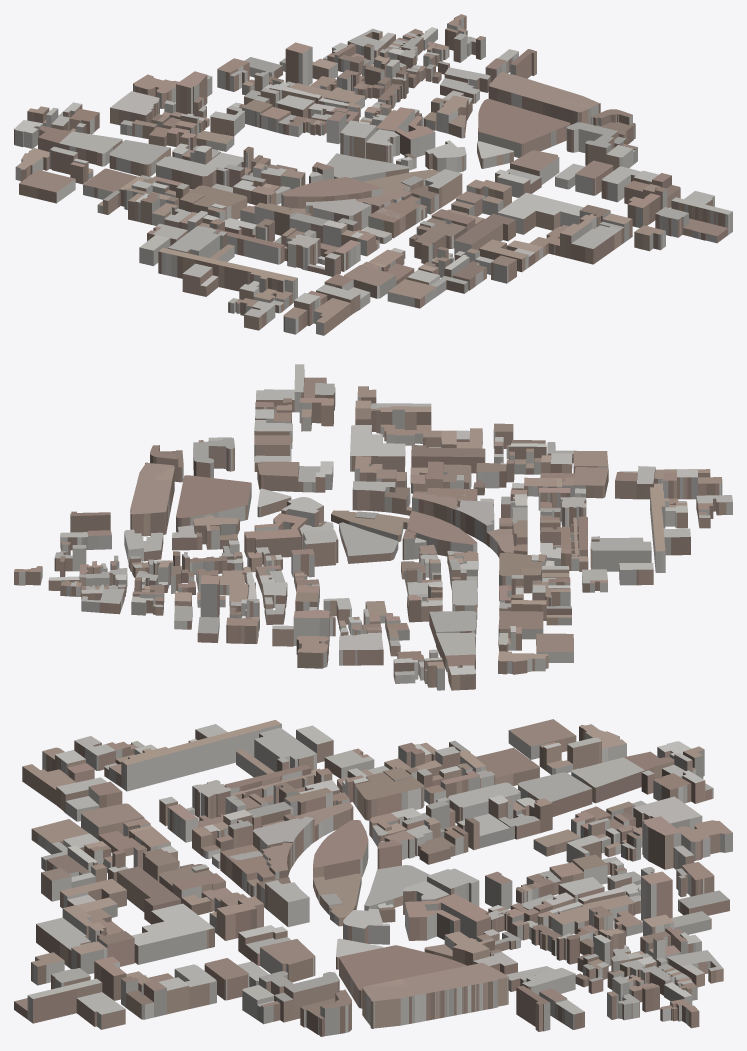
File: london.glb
3 views of the same model, one above another, from view 1: azimuth 30°, elevation 25°; view 2: azimuth 150°, elevation 25°; view 3: azimuth 270°, elevation 25° (orthographic). The views are drawn at different scales.
Visible parts, largest first — view 1: london; view 2: london; view 3: london.
Part boxes in pixels (<box>): london: <box>14,14,732,335</box>; london: <box>14,364,732,690</box>; london: <box>14,719,732,1036</box>.
Bounding box in the file's own units: 693 × 46.2 × 691.
